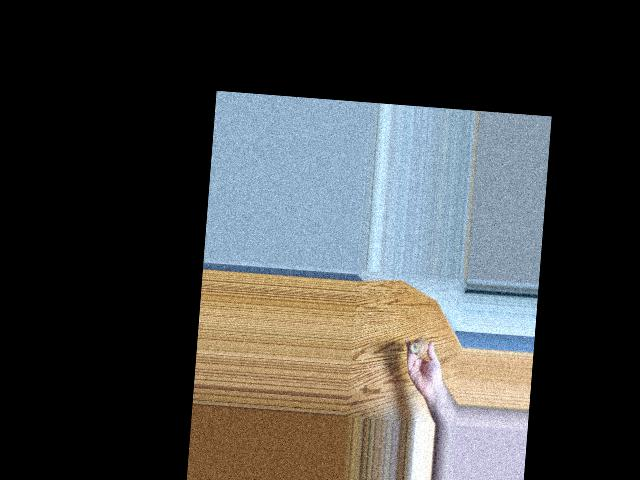sweet_potato: (410, 335, 429, 356)
